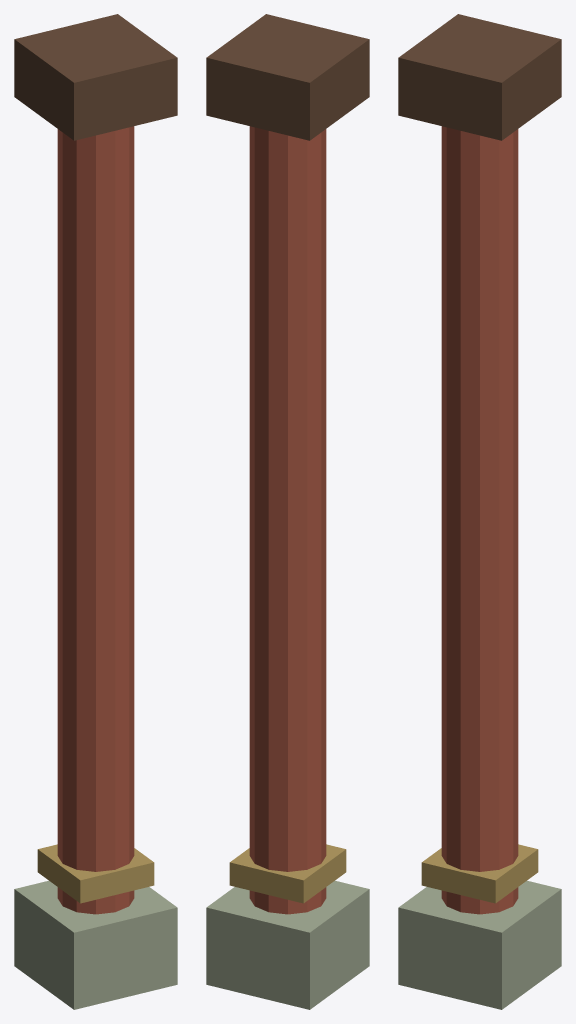
Rendered from pillar.glb.
3 renders of one model, left to right at view 1: azimuth 30°, elevation 25°; view 2: azimuth 150°, elevation 25°; view 3: azimuth 330°, elevation 25°, orthographic.
Visible parts, largest first — view 1: pillar; view 2: pillar; view 3: pillar.
Boxes of the visible parts, <box> form: pillar: <box>14,14,177,1009</box>; pillar: <box>206,14,369,1009</box>; pillar: <box>398,14,561,1009</box>.
Size of the model in its own units: 0.28 by 2.4 by 0.28.
